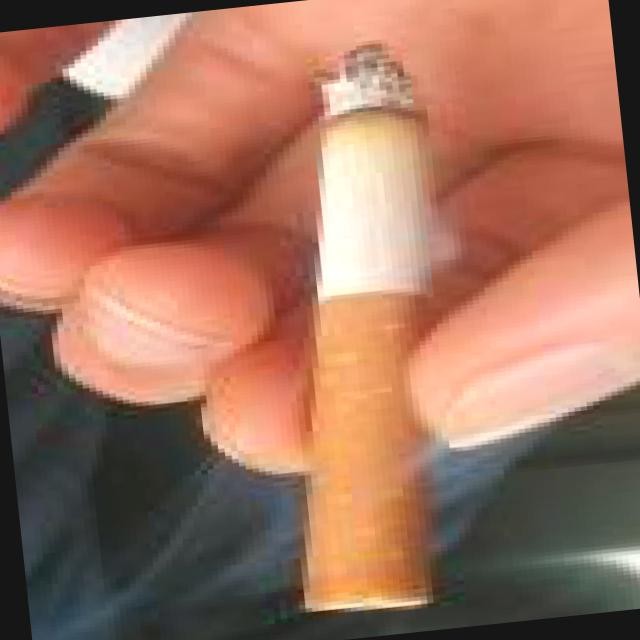smoke: (232, 40, 495, 627)
